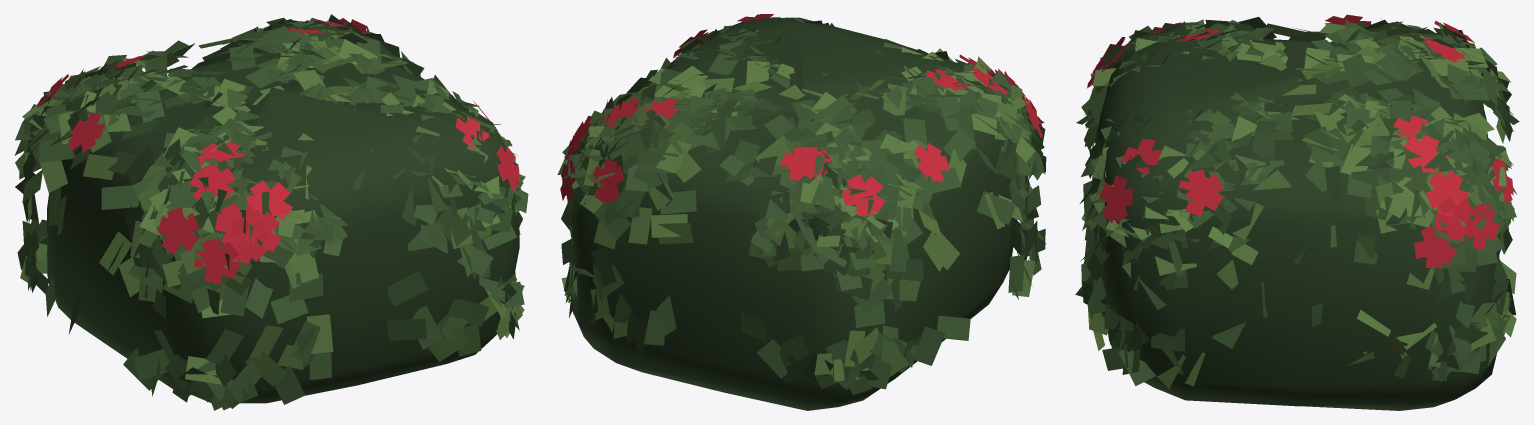
File: hibiscus-hedge.glb
3 renders of one model, left to right at view 1: azimuth 30°, elevation 25°; view 2: azimuth 150°, elevation 25°; view 3: azimuth 270°, elevation 25°, orthographic. The views are drawn at different scales.
Parts seen in each view (by area): view 1: hibiscus-hedge-hedge-dark, hibiscus-hedge-hedge, hibiscus-hedge-hedge-light, hibiscus-hedge-hibiscus; view 2: hibiscus-hedge-hedge-dark, hibiscus-hedge-hedge, hibiscus-hedge-hedge-light, hibiscus-hedge-hibiscus; view 3: hibiscus-hedge-hedge-dark, hibiscus-hedge-hedge, hibiscus-hedge-hedge-light, hibiscus-hedge-hibiscus.
Part boxes in pixels (x1,y1,x2,y2): hibiscus-hedge-hedge-dark: (47,50,519,403); hibiscus-hedge-hedge: (15,14,528,410); hibiscus-hedge-hedge-light: (14,17,524,396); hibiscus-hedge-hibiscus: (36,18,519,284); hibiscus-hedge-hedge-dark: (571,17,1016,410); hibiscus-hedge-hedge: (557,14,1046,389); hibiscus-hedge-hedge-light: (561,17,1045,395); hibiscus-hedge-hibiscus: (560,14,1042,215); hibiscus-hedge-hedge-dark: (1095,34,1499,410); hibiscus-hedge-hedge: (1075,17,1519,386); hibiscus-hedge-hedge-light: (1076,19,1516,388); hibiscus-hedge-hibiscus: (1086,14,1513,267).
Size of the model in its own units: 2.06 by 1.39 by 2.07.
